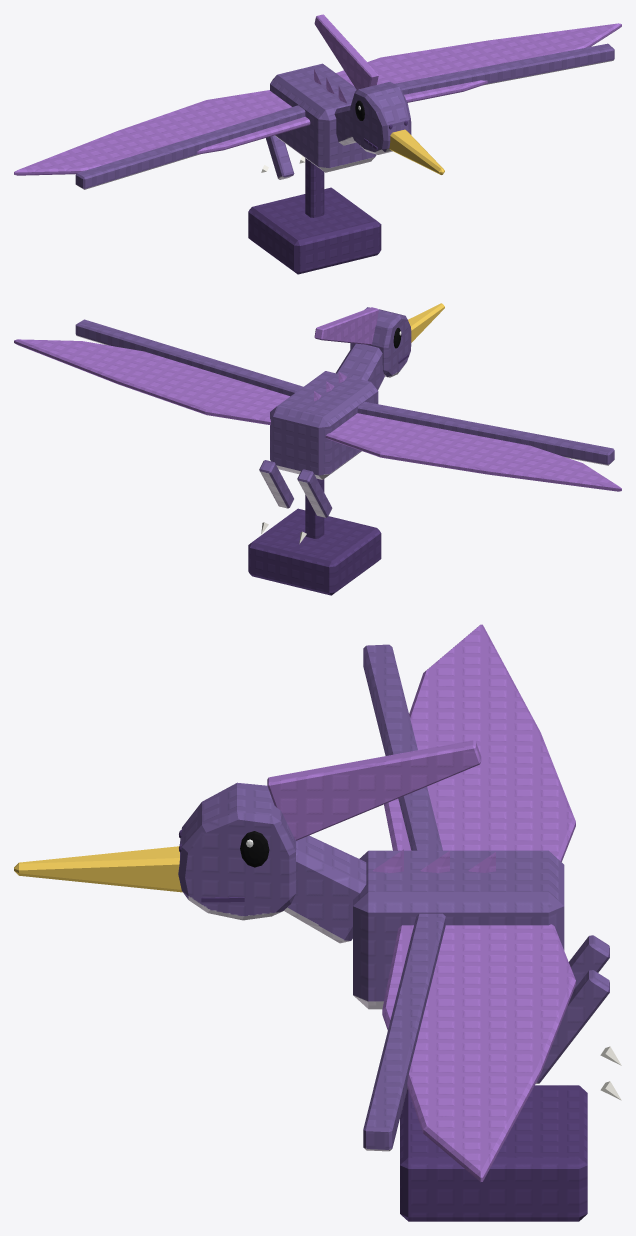
File: 13_Pteranodon.glb
3 views of the same model, one above another, from view 1: azimuth 30°, elevation 25°; view 2: azimuth 150°, elevation 25°; view 3: azimuth 270°, elevation 25° (orthographic). The views are drawn at different scales.
Parts seen in each view (by area): view 1: 13_Pteranodon; view 2: 13_Pteranodon; view 3: 13_Pteranodon.
Part boxes in pixels (x1,y1,x2,y2): 13_Pteranodon: (14,14,621,274); 13_Pteranodon: (14,303,621,595); 13_Pteranodon: (14,624,621,1221).
Size of the model in its own units: 10.03 by 3.74 by 4.66.
1 material, 1 textured.
